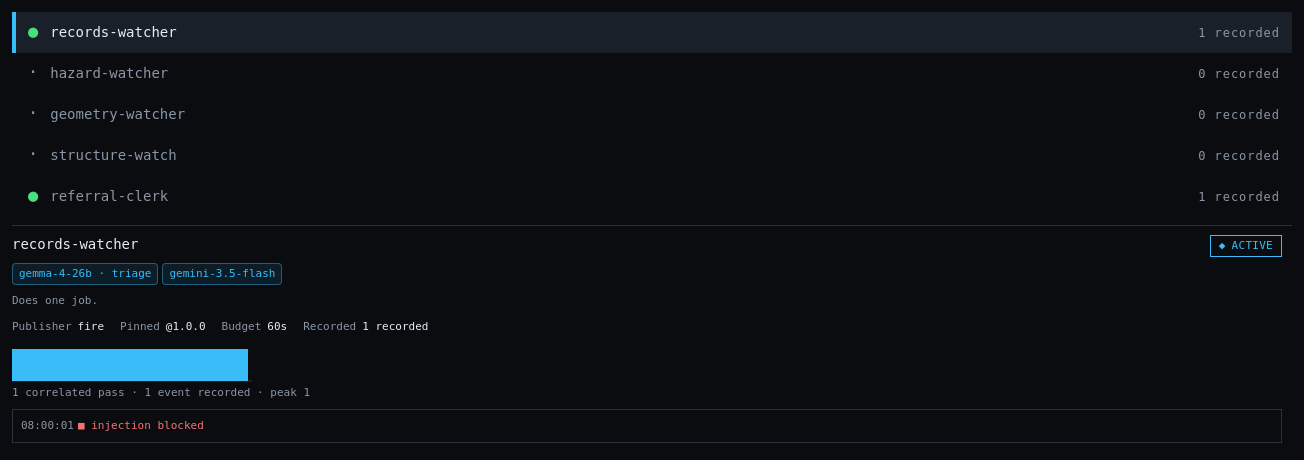
Test: every agent gets its own visual › reads the ranking weights the ranker actually uses
Click the button "· structure-watch 0 recorded".
click(113, 155)  # box [12,135,1292,176]
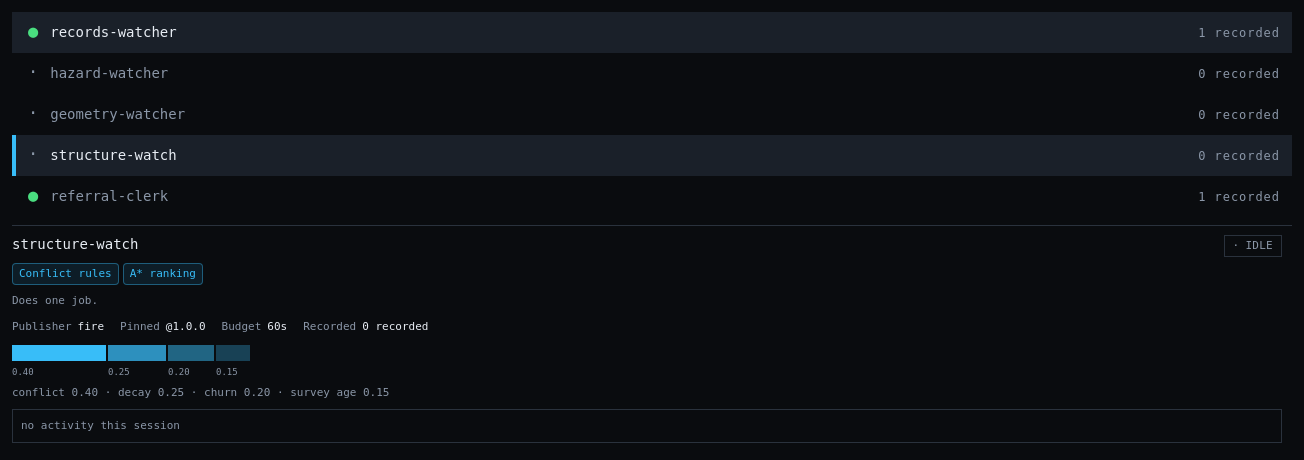
Result: the element with test id "fleet-visual-structure-watch" shows "conflict 0.40" at [12,386,390,399]
Result: the element with test id "fleet-visual-structure-watch" shows "decay 0.25" at [12,386,390,399]
Result: the element with test id "fleet-visual-structure-watch" shows "churn 0.20" at [12,386,390,399]
